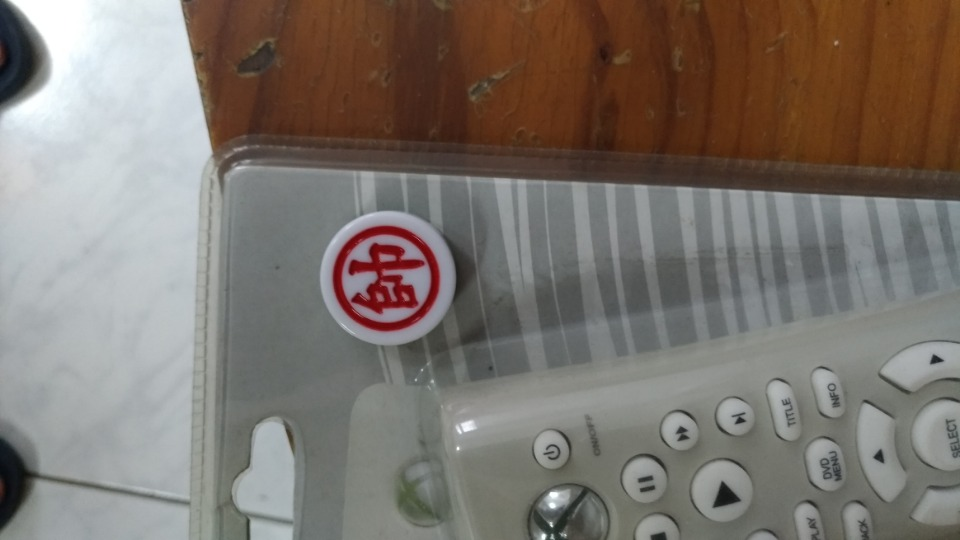r-king: (309, 211, 465, 346)
